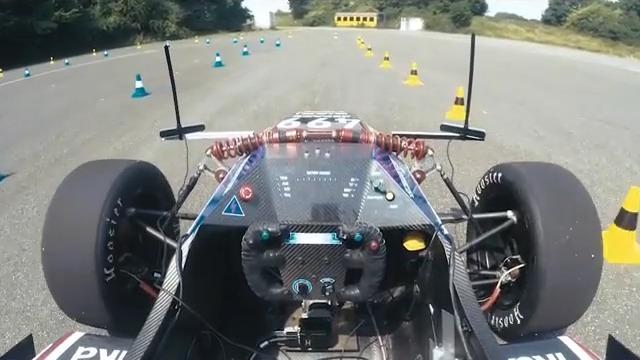blue_cone: (132, 74, 151, 98), (213, 52, 224, 67)
yellow_cone: (591, 185, 640, 264), (445, 87, 471, 122), (403, 62, 423, 86), (379, 51, 392, 68)
